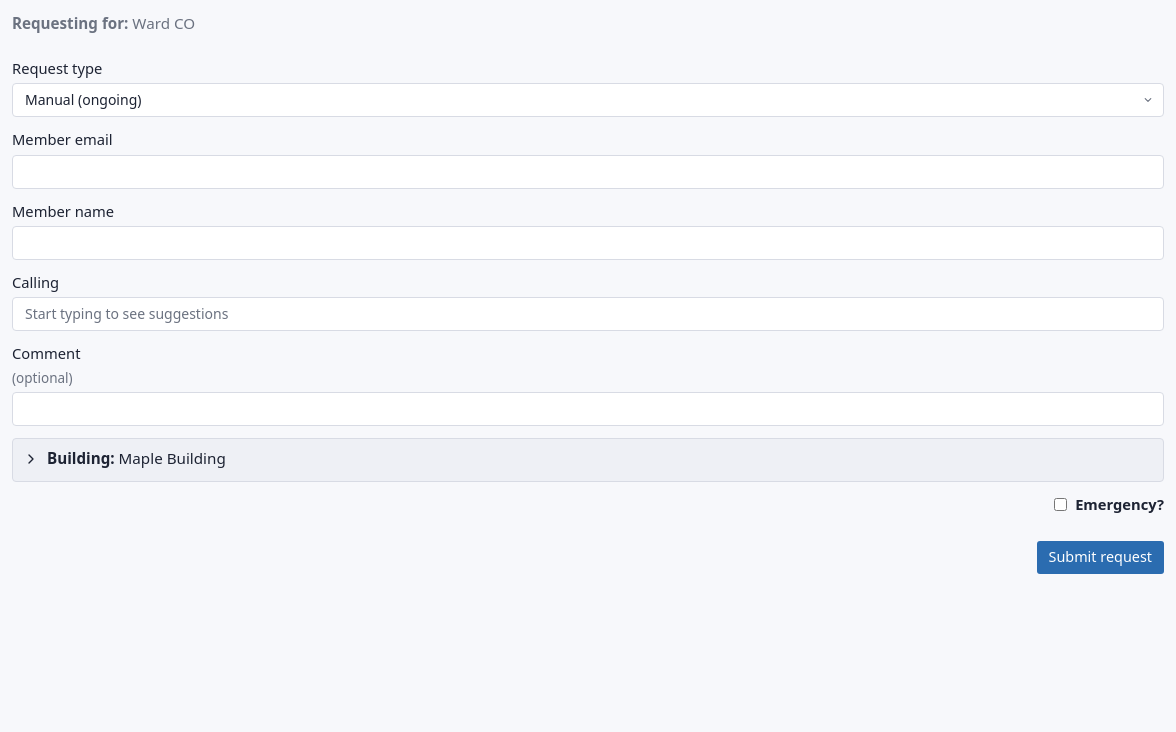
Test case: <NewRequestForm /> — validation › blocks submit on empty reason
Type "bob@example.com" into the field with test id "new-request-email" at (588, 172), box [12,155,1164,189]
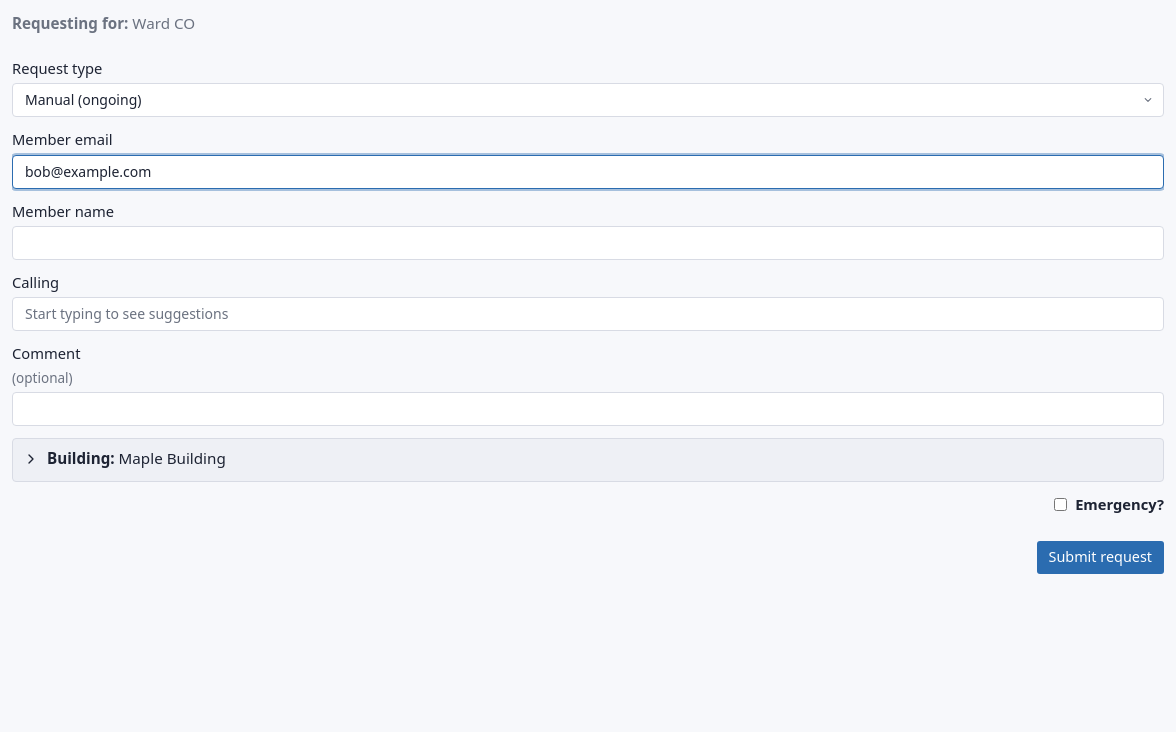
Type "Bob" into the field with test id "new-request-name" at (588, 243), box [12,226,1164,260]
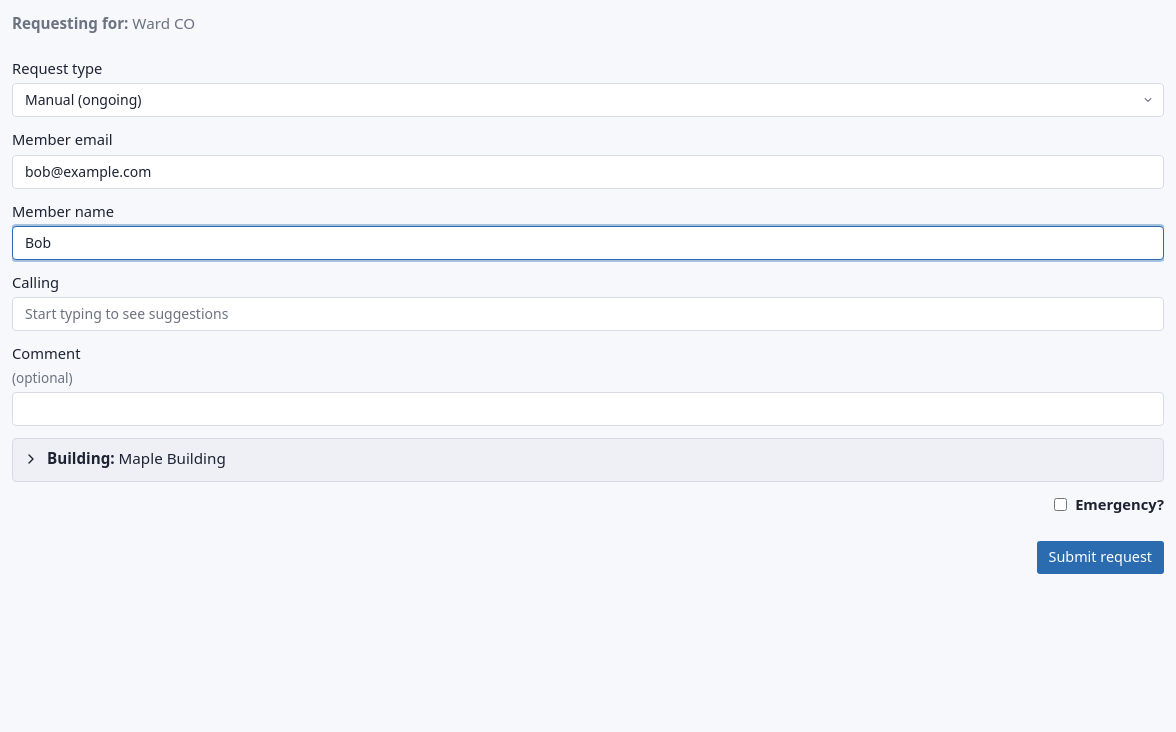
Click the button with test id "new-request-submit" at (1100, 558), box [1036,541,1164,574]
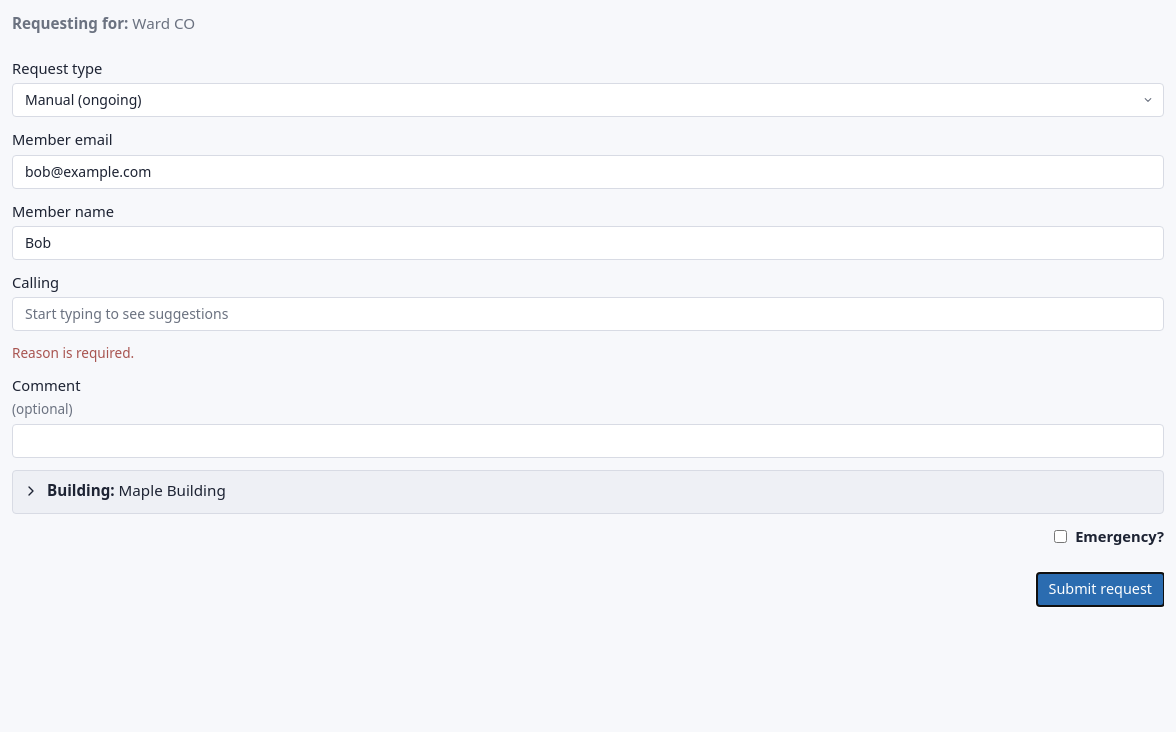
Now the text "Reason is required." is shown, box [12,343,134,362]
